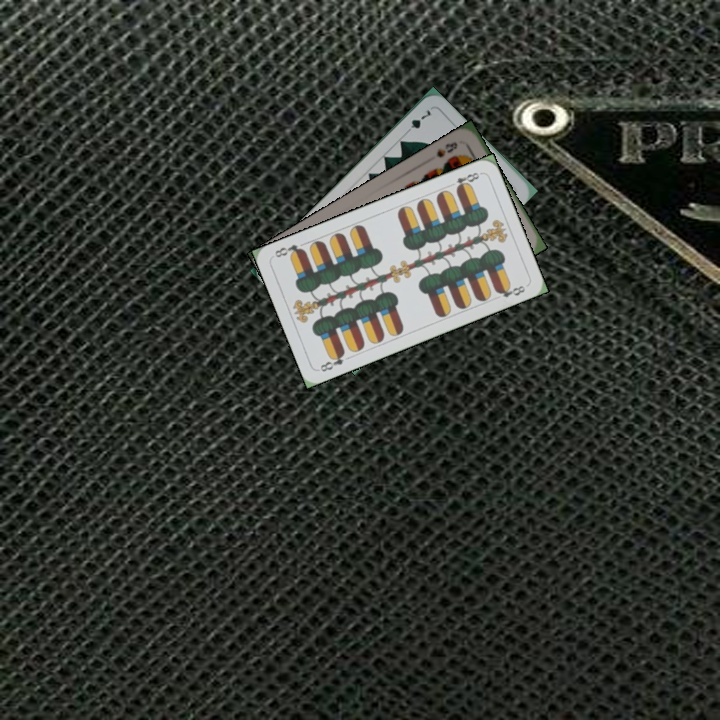E8: (444, 168, 484, 193), (316, 347, 347, 374)
G7: (401, 106, 433, 137)
S8: (432, 138, 460, 160)
